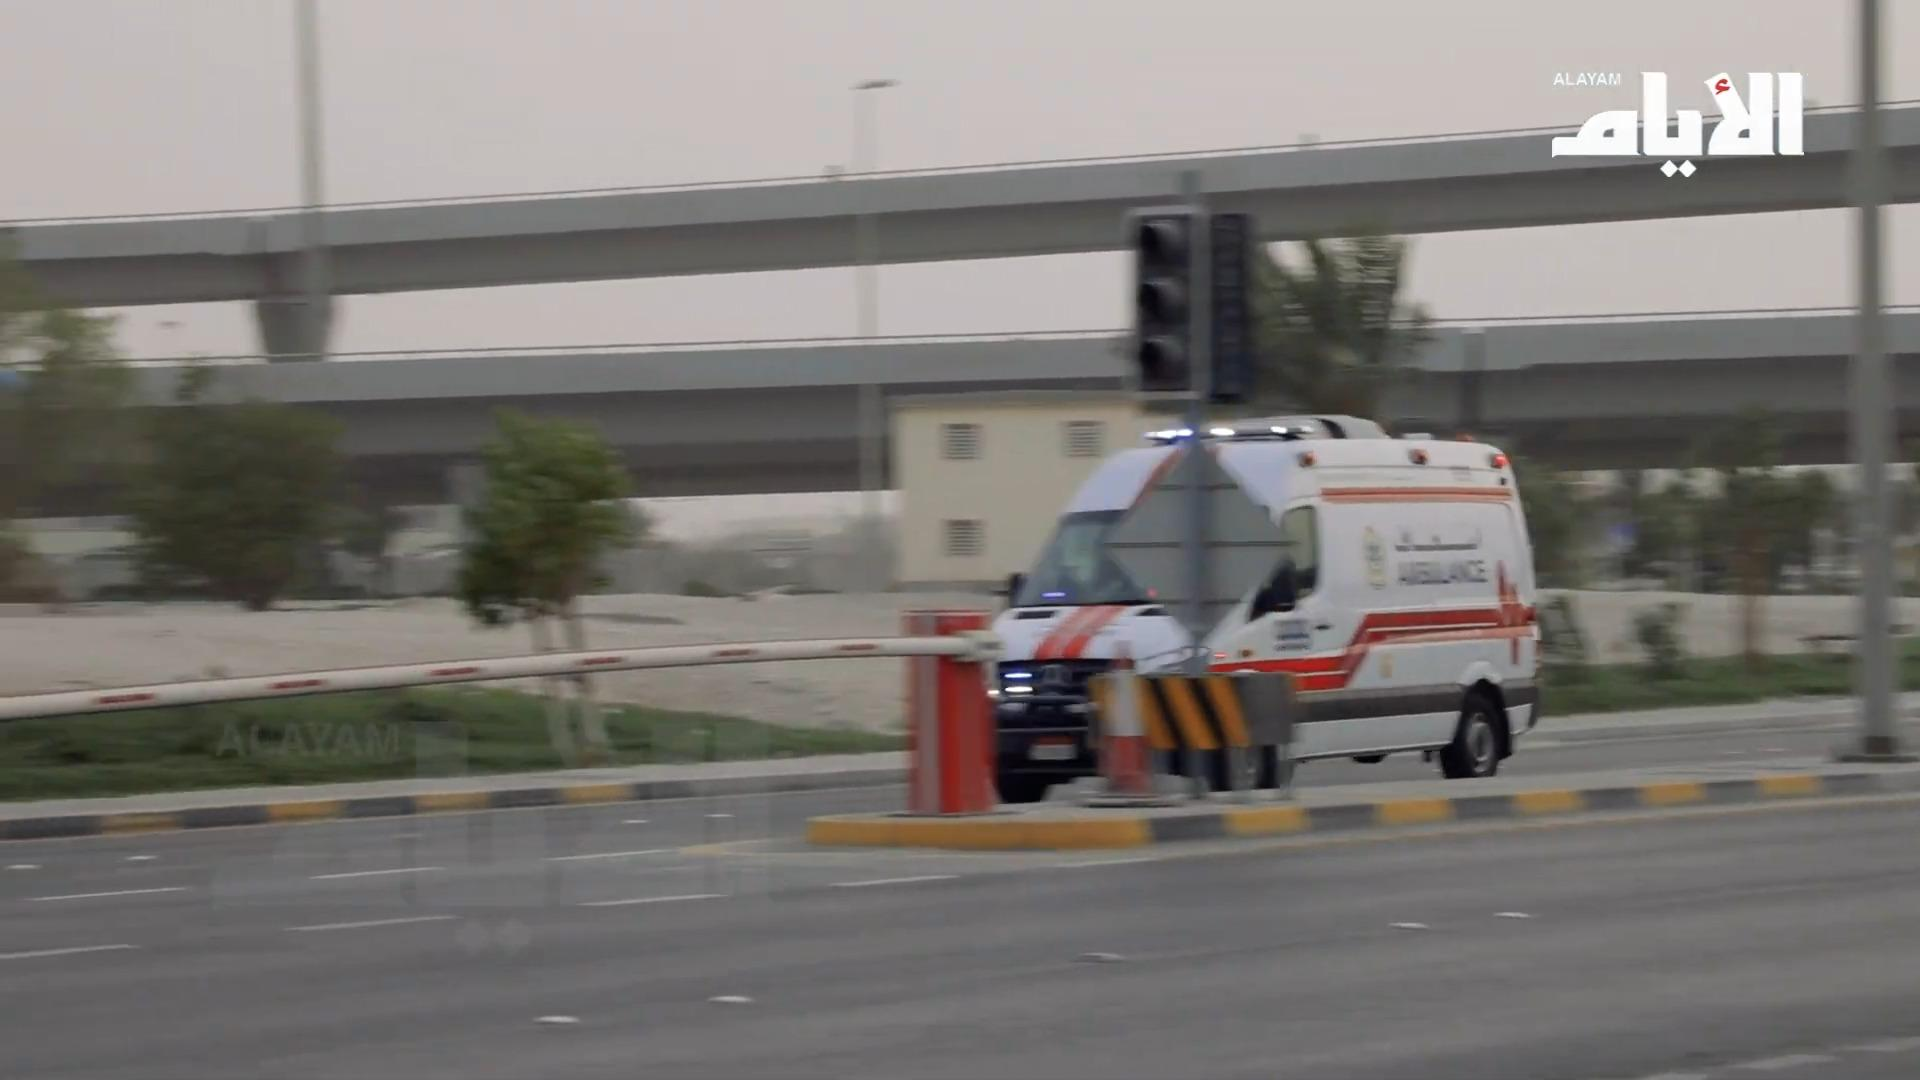ambulance_on: (988, 411, 1538, 803)
